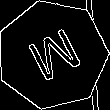M_SE: (20, 22, 85, 88)
